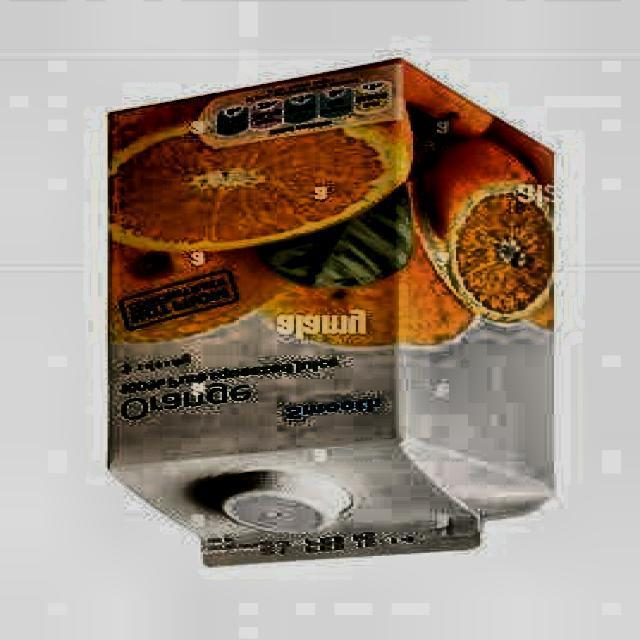cardboard: (102, 59, 558, 569)
